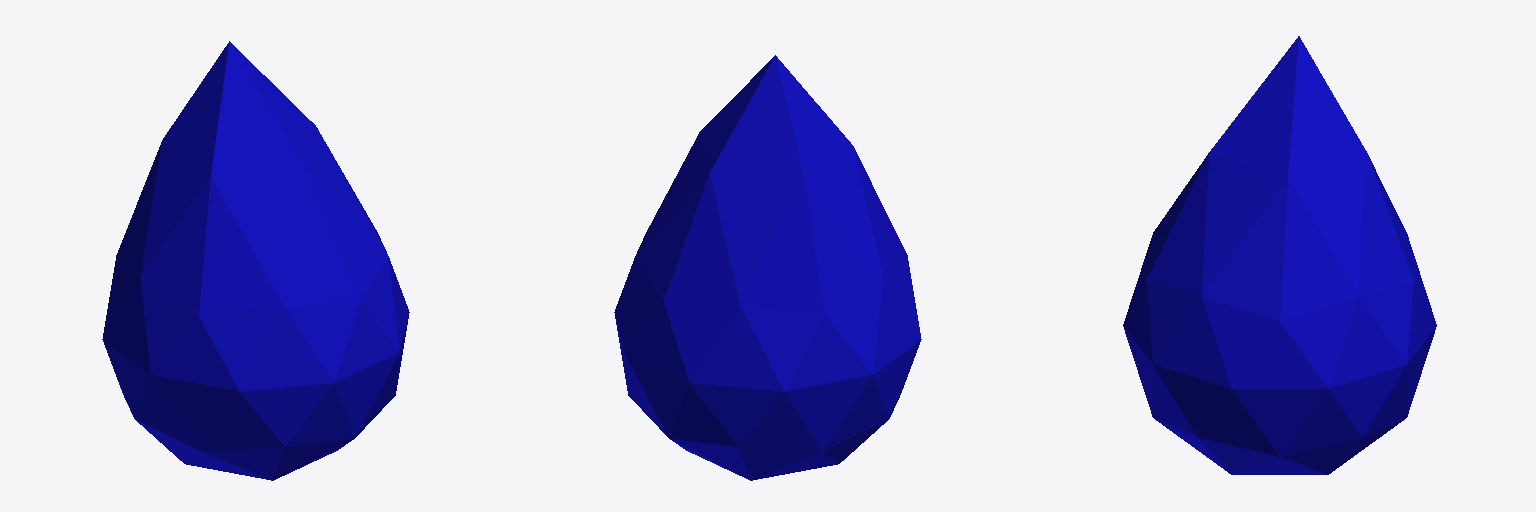
The model's file is drop.obj.
3 views of the same model, side by side, from view 1: azimuth 30°, elevation 25°; view 2: azimuth 150°, elevation 25°; view 3: azimuth 270°, elevation 25° (orthographic).
Parts seen in each view (by area): view 1: Icosphere; view 2: Icosphere; view 3: Icosphere.
Boxes of the visible parts, <box> form: Icosphere: <box>102,41,409,480</box>; Icosphere: <box>614,55,921,480</box>; Icosphere: <box>1123,36,1436,474</box>.
Size of the model in its own units: 1.9 by 2.98 by 2.